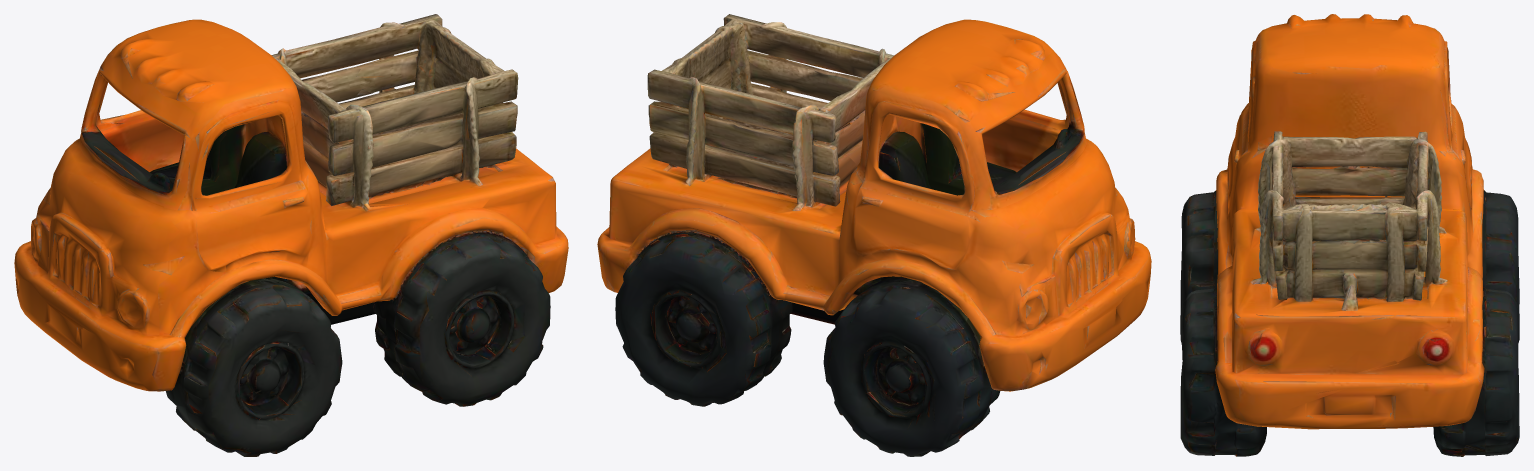
The picture shows the model from 3 angles, left to right: view 1: azimuth 30°, elevation 25°; view 2: azimuth 150°, elevation 25°; view 3: azimuth 270°, elevation 25°; orthographic projection. The views are drawn at different scales.
Parts seen in each view (by area): view 1: Mesh_0; view 2: Mesh_0; view 3: Mesh_0.
Boxes of the visible parts, bbox=[...] form: Mesh_0: bbox=[14, 14, 568, 456]; Mesh_0: bbox=[597, 14, 1151, 456]; Mesh_0: bbox=[1180, 14, 1519, 456].
Size of the model in its own units: 1.91 by 1.38 by 1.3.
Materials: 1 (1 with a texture image).
